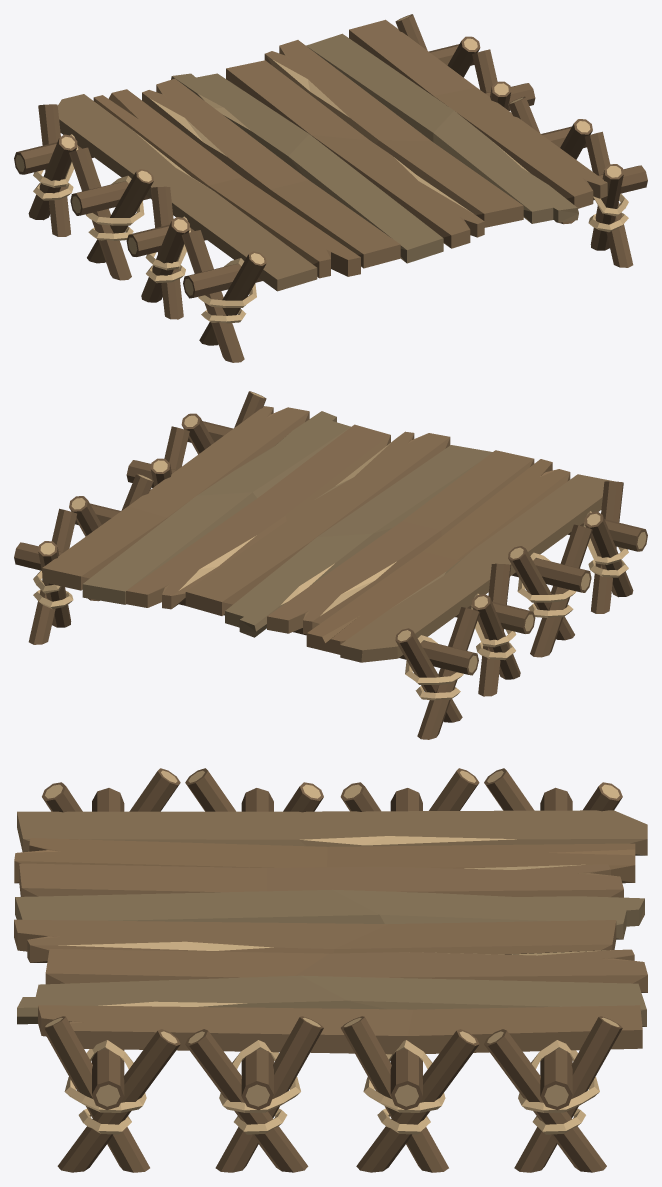
File: rpgpp_ag_stockpile_01.fbx
3 views of the same model, one above another, from view 1: azimuth 30°, elevation 25°; view 2: azimuth 150°, elevation 25°; view 3: azimuth 270°, elevation 25° (orthographic). The views are drawn at different scales.
Visible parts, largest first — view 1: rpgpp_ag_stockpile_01; view 2: rpgpp_ag_stockpile_01; view 3: rpgpp_ag_stockpile_01.
Part boxes in pixels (bbox=[...]): rpgpp_ag_stockpile_01: bbox=[14, 14, 647, 362]; rpgpp_ag_stockpile_01: bbox=[14, 391, 647, 739]; rpgpp_ag_stockpile_01: bbox=[14, 768, 647, 1172].
Size of the model in its own units: 4.88 by 1.09 by 4.46.
